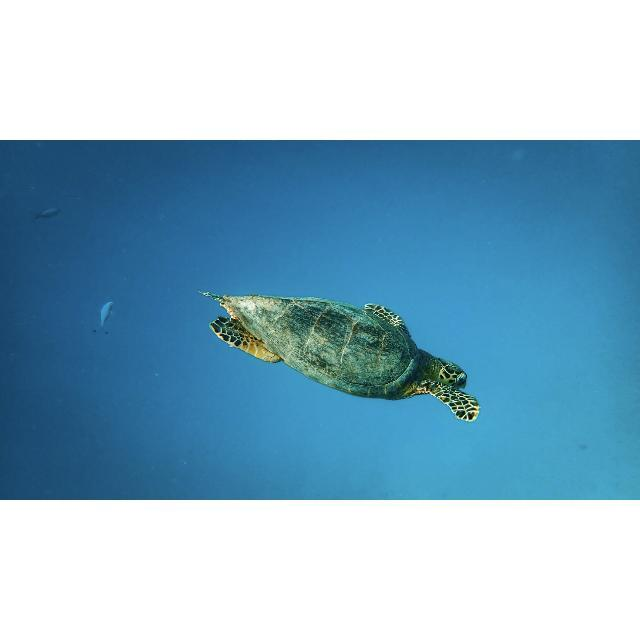turtle: (200, 290, 478, 422)
